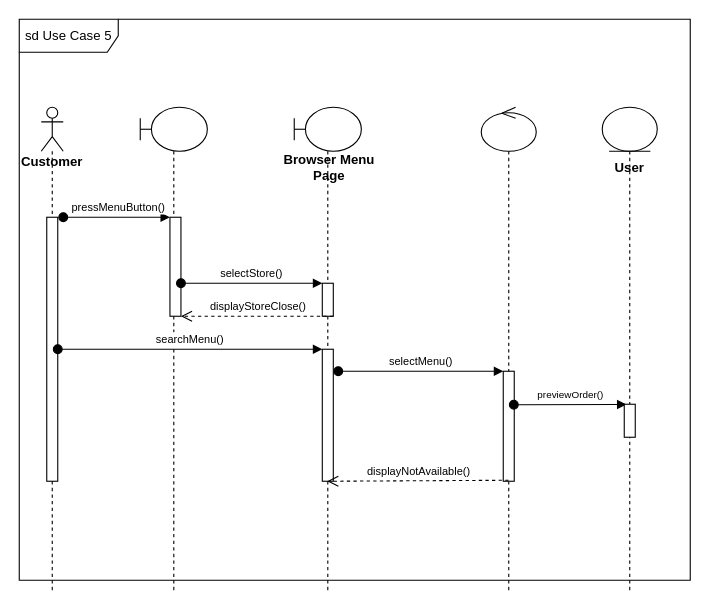
The diagram is 710 pixels wide and 611 high, and some of its shapes have lost their labels. Here are the shapes that lost their labels. From the top down, the box of each, then its label:
(139, 106, 207, 591): Select Store Page
(480, 106, 536, 591): Browser Menu Controller
